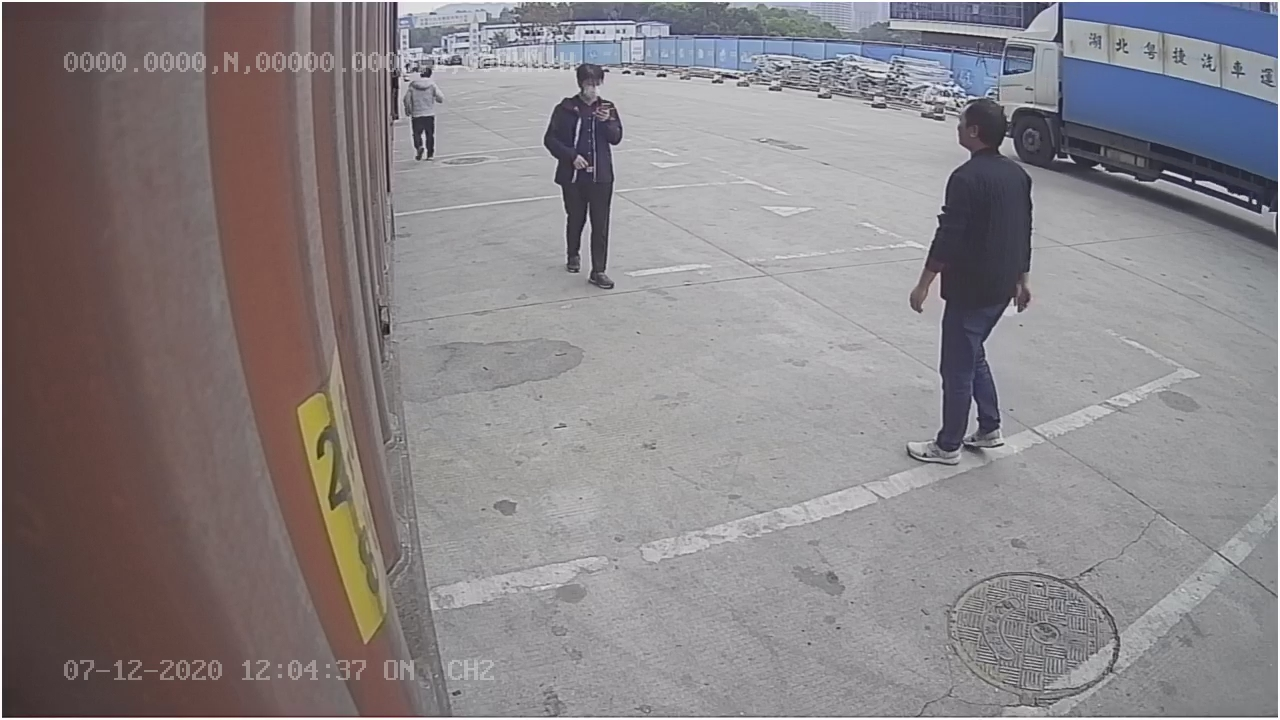person: (541, 62, 626, 292)
